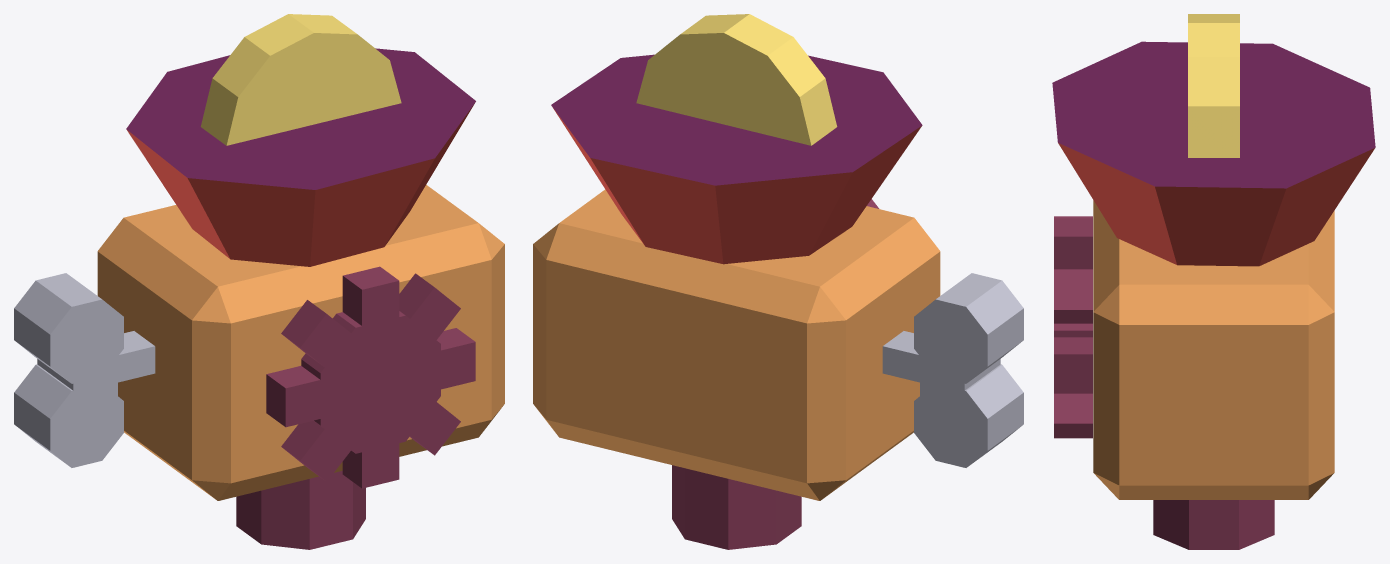
The model's file is dropper_splat.glb.
3 views of the same model, side by side, from view 1: azimuth 30°, elevation 25°; view 2: azimuth 150°, elevation 25°; view 3: azimuth 270°, elevation 25° (orthographic).
Parts seen in each view (by area): view 1: Body, Hopper, Gear, Key, Coin, Chute; view 2: Body, Hopper, Key, Coin, Chute; view 3: Body, Hopper, Gear, Coin, Chute.
Part boxes in pixels (x1,y1,x2,y2): Body: (97,184,504,500); Hopper: (126,48,475,266); Gear: (266,266,475,488); Key: (14,273,155,467); Coin: (200,14,401,145); Chute: (236,471,365,549); Body: (533,189,940,500); Hopper: (551,54,922,264); Key: (882,273,1023,467); Coin: (636,14,837,145); Chute: (672,465,801,549); Body: (1093,200,1334,499); Hopper: (1052,41,1375,266); Gear: (1054,216,1092,438); Coin: (1188,14,1239,157); Chute: (1153,500,1274,549).
Size of the model in its own units: 1.14 by 1.28 by 0.7482.
